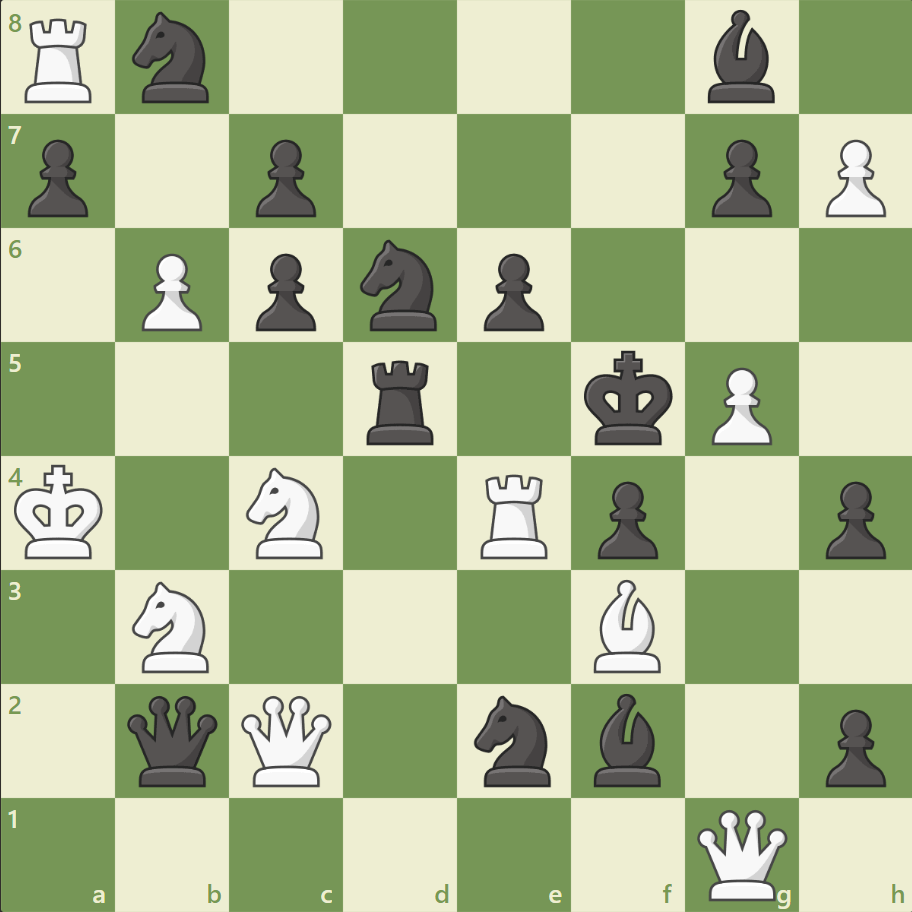B: (585, 574, 669, 676)
K: (11, 458, 111, 566)
N: (124, 575, 222, 677), (238, 461, 335, 564)
P: (133, 246, 208, 337), (701, 359, 776, 450), (815, 132, 889, 223)
Q: (237, 690, 336, 789), (691, 804, 790, 903)
R: (19, 12, 102, 109), (473, 466, 556, 563)
b: (698, 6, 782, 109), (585, 687, 669, 790)
k: (579, 344, 679, 452)
n: (124, 7, 222, 110), (351, 234, 449, 337), (465, 688, 562, 791)
p: (20, 132, 95, 223), (247, 132, 322, 223), (701, 132, 776, 223), (247, 246, 322, 337), (474, 246, 549, 337), (588, 473, 662, 564), (815, 473, 889, 564), (815, 700, 889, 791)
q: (124, 690, 223, 789)
r: (360, 352, 442, 449)
